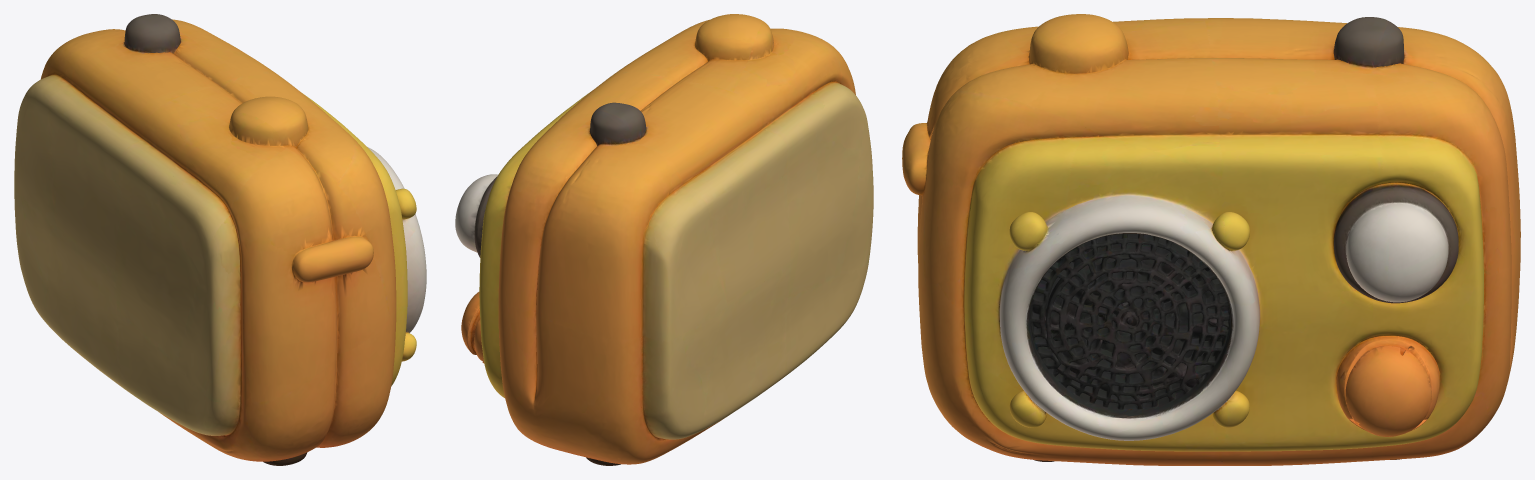
File: radio-web.glb
3 renders of one model, left to right at view 1: azimuth 30°, elevation 25°; view 2: azimuth 150°, elevation 25°; view 3: azimuth 270°, elevation 25°, orthographic. The views are drawn at different scales.
Visible parts, largest first — view 1: tripo_node_d9fdc04a-87c9-4220-a3b9-cbfa9f8ec36f; view 2: tripo_node_d9fdc04a-87c9-4220-a3b9-cbfa9f8ec36f; view 3: tripo_node_d9fdc04a-87c9-4220-a3b9-cbfa9f8ec36f.
Boxes of the visible parts, <box> form: tripo_node_d9fdc04a-87c9-4220-a3b9-cbfa9f8ec36f: <box>14,14,426,465</box>; tripo_node_d9fdc04a-87c9-4220-a3b9-cbfa9f8ec36f: <box>455,14,873,465</box>; tripo_node_d9fdc04a-87c9-4220-a3b9-cbfa9f8ec36f: <box>902,14,1520,465</box>.
Size of the model in its own units: 0.5779 by 0.7708 by 0.9999.
1 material, 1 textured.
